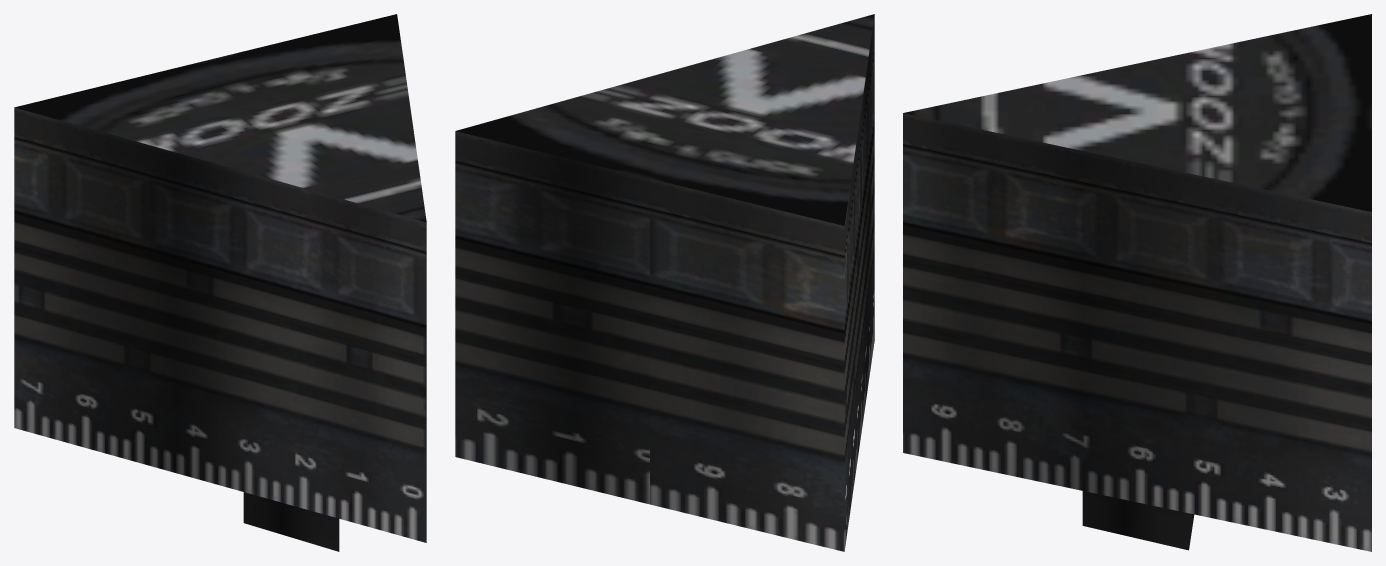
The model's file is t6_attach_optic_vzoom_svu_world_LOD2.obj.
3 views of the same model, side by side, from view 1: azimuth 30°, elevation 25°; view 2: azimuth 150°, elevation 25°; view 3: azimuth 270°, elevation 25° (orthographic). The views are drawn at different scales.
Visible parts, largest first — view 1: mtl_t6_attach_optic_vzoom_svu; view 2: mtl_t6_attach_optic_vzoom_svu; view 3: mtl_t6_attach_optic_vzoom_svu.
Part boxes in pixels (<box>): mtl_t6_attach_optic_vzoom_svu: <box>14,14,426,551</box>; mtl_t6_attach_optic_vzoom_svu: <box>455,14,874,551</box>; mtl_t6_attach_optic_vzoom_svu: <box>903,14,1371,551</box>.
Bounding box in the file's own units: 1.89 × 1.84 × 1.89.
